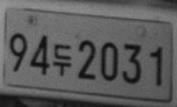0: (100, 41, 119, 81)
1: (147, 45, 167, 86)
2: (77, 39, 96, 80)
3: (122, 43, 141, 84)
4: (30, 34, 50, 75)
9: (8, 32, 28, 71)
두: (53, 43, 71, 76)
